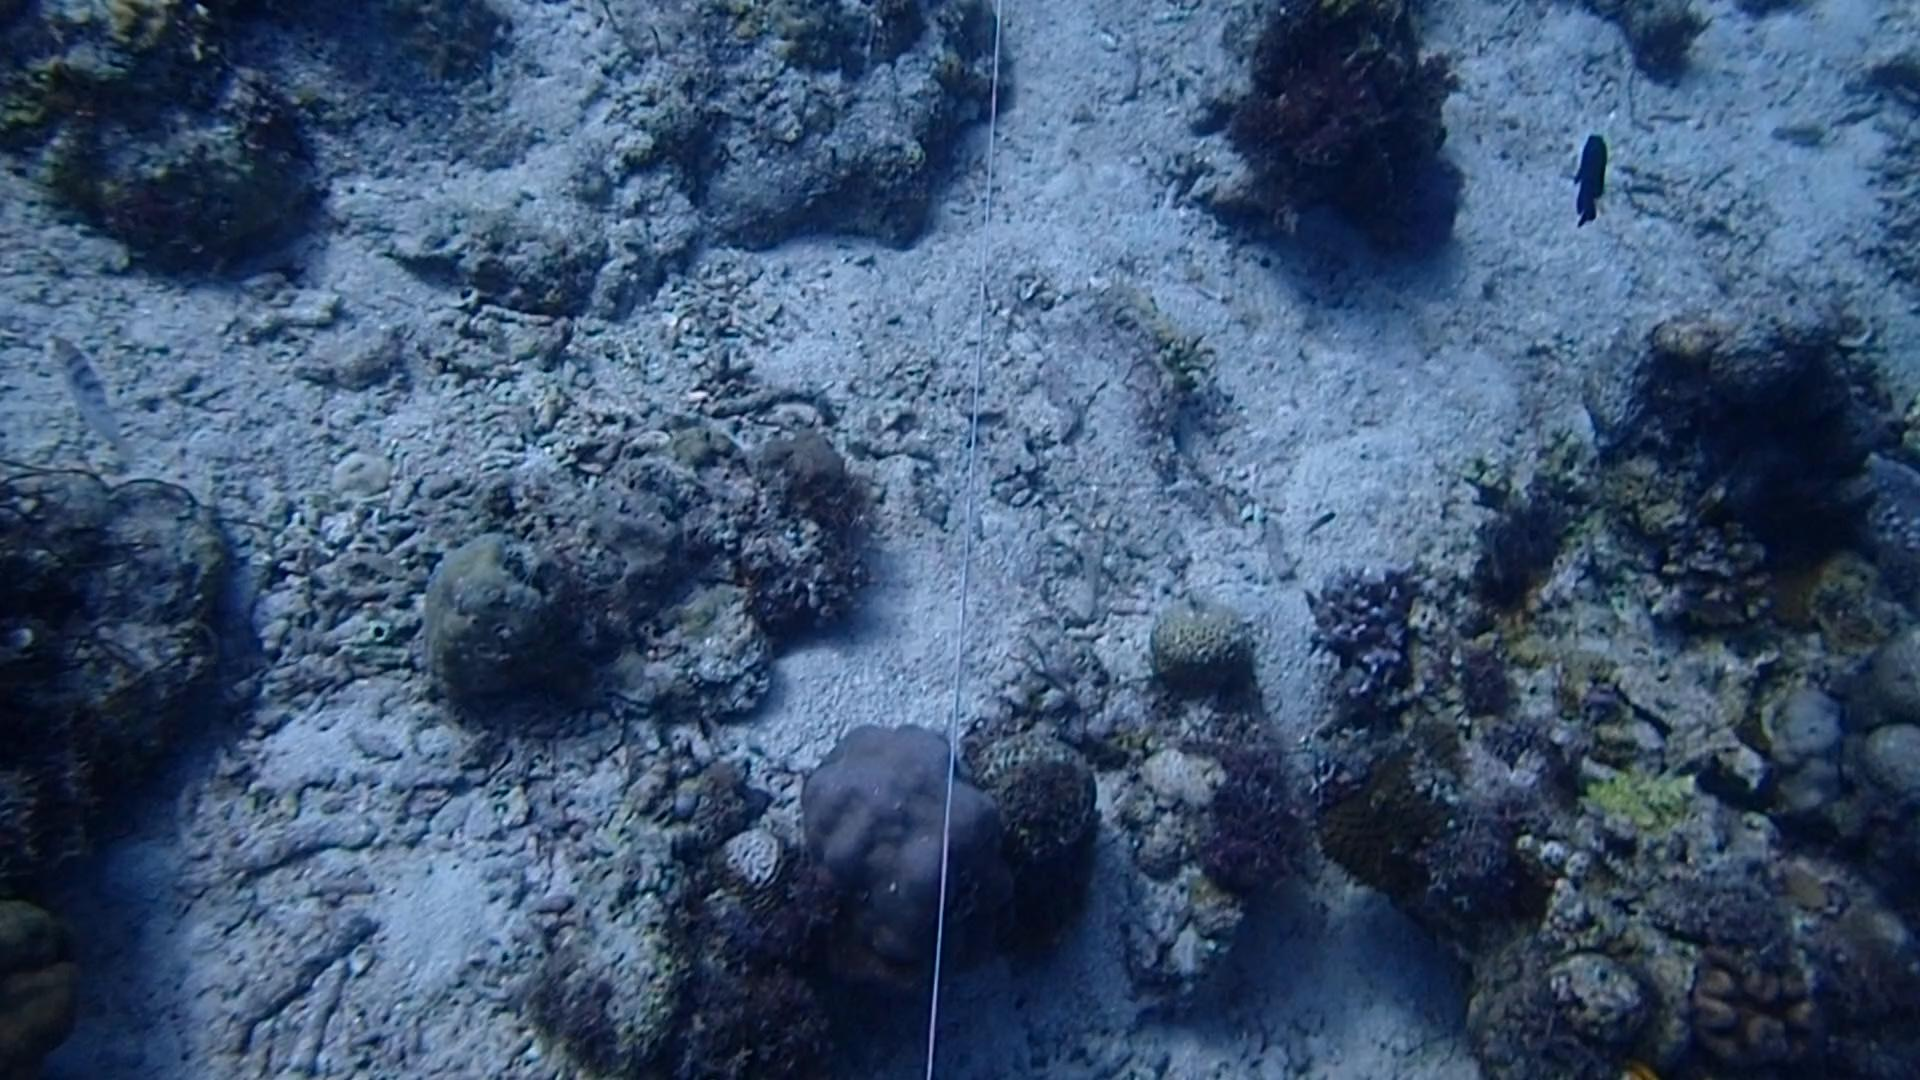Dark Fish: (1559, 124, 1619, 233)
Light Fish w Back Stripes: (30, 316, 148, 463)
